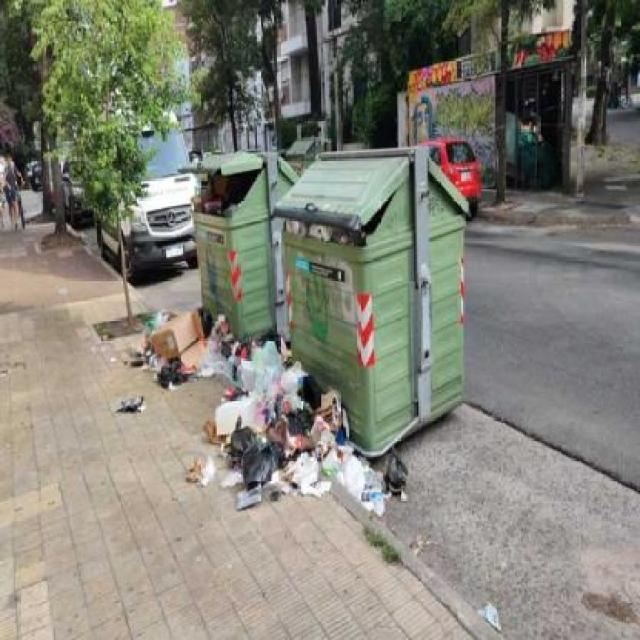garbage: (125, 308, 358, 492), (282, 217, 360, 258), (369, 445, 418, 503), (188, 173, 242, 223)
